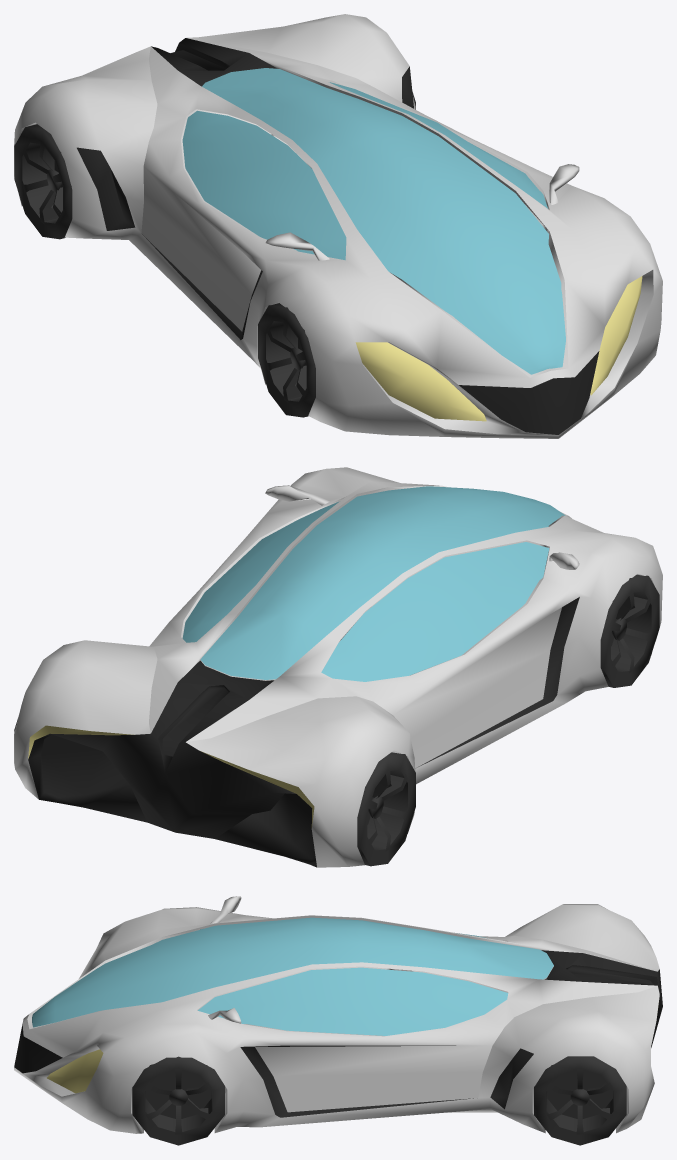
File: Car Medium.fbx
3 renders of one model, top to bottom at view 1: azimuth 30°, elevation 25°; view 2: azimuth 150°, elevation 25°; view 3: azimuth 270°, elevation 25°, orthographic. The views are drawn at different scales.
Visible parts, largest first — view 1: body4_L1, wheel_BR_L1, wheel_FR_L1; view 2: body4_L1, wheel_BR_L1, wheel_FR_L1; view 3: body4_L1, wheel_BL_L1, wheel_FL_L1.
Part boxes in pixels (<box>): body4_L1: <box>14,14,662,438</box>; wheel_BR_L1: <box>14,124,72,239</box>; wheel_FR_L1: <box>258,303,315,417</box>; body4_L1: <box>14,467,662,867</box>; wheel_BR_L1: <box>357,752,415,866</box>; wheel_FR_L1: <box>600,574,659,687</box>; body4_L1: <box>14,896,662,1133</box>; wheel_BL_L1: <box>534,1056,626,1145</box>; wheel_FL_L1: <box>132,1056,224,1145</box>.
Bounding box in the file's own units: 2.3 × 1.13 × 4.5.
